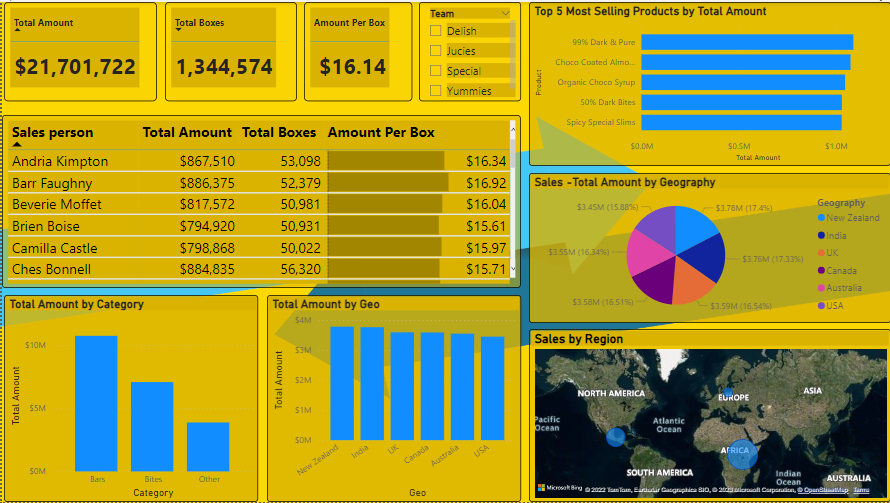

The dashboard page shown, as its layout file describes it:
{"tool":"powerbi","page":{"name":"Sales Performance Report","canvas":[1280,720],"ordinal":1},"visuals":[{"type":"tableEx","fields":{"Values":["people.Sales person","sales.Total Amount","sales.Total Boxes","sales.Amount Per Box"]},"box":[0,162.7,747.4,249.1],"z":0},{"type":"slicer","fields":{"Values":["people.Team"]},"box":[600.5,0,146.9,142.6],"z":1000},{"type":"columnChart","fields":{"Category":["products.Category"],"Y":["sales.Total Amount"]},"box":[2.9,421.9,365.8,298.1],"z":2000},{"type":"tableEx","fields":{"Values":["sales.Total Amount"]},"box":[2.9,0,220.3,142.6],"z":3000},{"type":"map","title":"Sales by Region","fields":{"Size":["sales.Total Amount"],"Category":["locations.Region"]},"box":[758.9,470.9,521.3,249.1],"z":4000},{"type":"tableEx","fields":{"Values":["sales.Total Boxes"]},"box":[234.7,0,190.1,142.6],"z":5000},{"type":"tableEx","fields":{"Values":["sales.Amount Per Box"]},"box":[434.9,0,155.5,142.6],"z":6000},{"type":"columnChart","fields":{"Category":["locations.Geo"],"Y":["sales.Total Amount"]},"box":[381.6,421.9,365.8,298.1],"z":7000},{"type":"clusteredBarChart","title":"Top 5 Most Selling Products by Total Amount","fields":{"Category":["products.Product"],"Y":["sales.Total Amount"]},"box":[758.9,0,521.3,236.2],"z":8000},{"type":"pieChart","title":"Sales -Total Amount by Geography","fields":{"Category":["sales.Geography"],"Y":["sales.Total Amount"]},"box":[758.9,246.2,521.3,216],"z":9000}]}

Visuals, with their boxes in screenshot pixels (x1, y1, x2, y2), scaled from the page's 1280x720 canvas onto the 890x503 screenshot:
tableEx - people.Sales person x sales.Total Amount: 0,114,520,288
slicer - people.Team: 418,0,520,100
columnChart - products.Category x sales.Total Amount: 2,295,256,502
tableEx - sales.Total Amount: 2,0,155,100
"Sales by Region" map: 528,329,889,502
tableEx - sales.Total Boxes: 163,0,295,100
tableEx - sales.Amount Per Box: 302,0,411,100
columnChart - locations.Geo x sales.Total Amount: 265,295,520,502
"Top 5 Most Selling Products by Total Amount" clusteredBarChart: 528,0,889,165
"Sales -Total Amount by Geography" pieChart: 528,172,889,323
